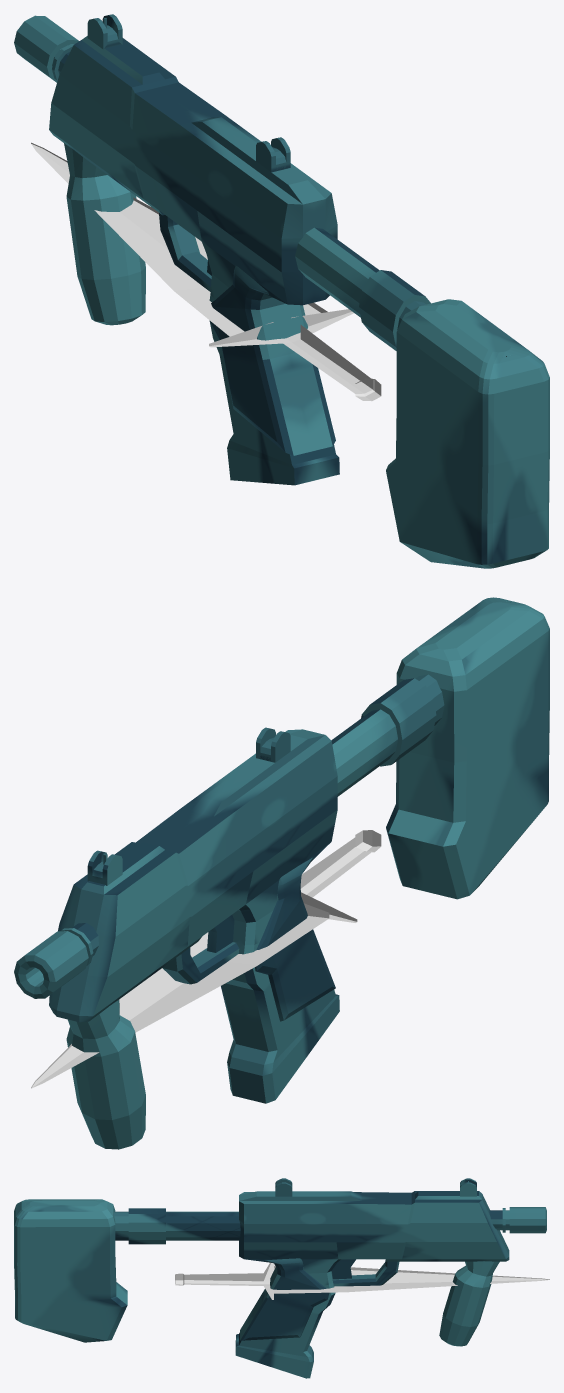
The model's file is knife_01.gltf.
3 views of the same model, one above another, from view 1: azimuth 30°, elevation 25°; view 2: azimuth 150°, elevation 25°; view 3: azimuth 270°, elevation 25° (orthographic). The views are drawn at different scales.
Parts seen in each view (by area): view 1: GunBody, Stock, Cube, Grip, Barrel; view 2: GunBody, Stock, Cube, Grip, Barrel, Trigger; view 3: GunBody, Stock, Cube, Grip, Barrel, Trigger.
Part boxes in pixels (bbox=[...]): GunBody: bbox=[49, 14, 339, 485]; Stock: bbox=[295, 227, 549, 568]; Cube: bbox=[31, 142, 381, 401]; Grip: bbox=[64, 143, 145, 325]; Barrel: bbox=[14, 15, 78, 82]; GunBody: bbox=[49, 727, 339, 1103]; Stock: bbox=[331, 597, 549, 899]; Cube: bbox=[31, 830, 381, 1088]; Grip: bbox=[66, 1000, 145, 1149]; Barrel: bbox=[14, 923, 98, 998]; Trigger: bbox=[207, 915, 234, 952]; GunBody: bbox=[235, 1178, 509, 1378]; Stock: bbox=[14, 1199, 240, 1342]; Cube: bbox=[175, 1262, 549, 1299]; Grip: bbox=[439, 1261, 499, 1346]; Barrel: bbox=[489, 1207, 546, 1233]; Trigger: bbox=[331, 1259, 355, 1279].
Bounding box in the file's own units: 0.4615 × 1.06 × 2.66.
1 material, 1 textured.
